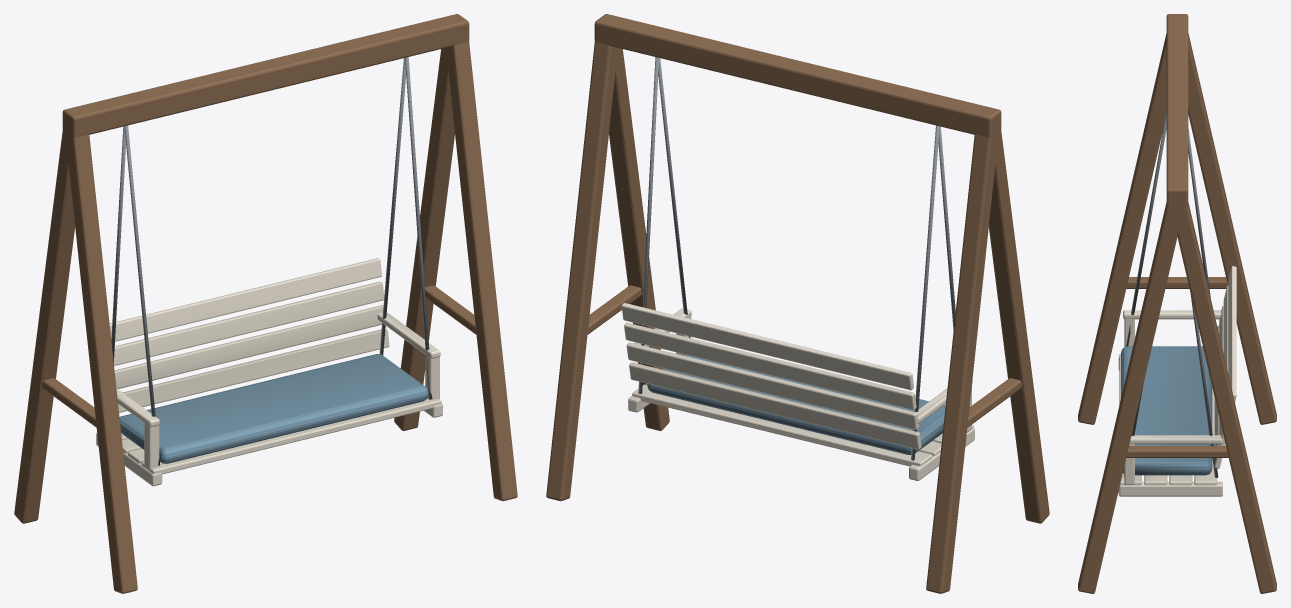
Rendered from porchSwing.glb.
3 renders of one model, left to right at view 1: azimuth 30°, elevation 25°; view 2: azimuth 150°, elevation 25°; view 3: azimuth 270°, elevation 25°, orthographic. The views are drawn at different scales.
Visible parts, largest first — view 1: frame, seat; view 2: frame, seat; view 3: frame, seat.
Boxes of the visible parts, x1=… form: frame: x1=14, y1=14, x2=517, y2=593; seat: x1=96, y1=57, x2=442, y2=486; frame: x1=546, y1=14, x2=1049, y2=593; seat: x1=621, y1=57, x2=974, y2=480; frame: x1=1078, y1=14, x2=1276, y2=593; seat: x1=1118, y1=110, x2=1236, y2=496.
Bounding box in the file's own units: 1.92 × 2.06 × 0.9142.
